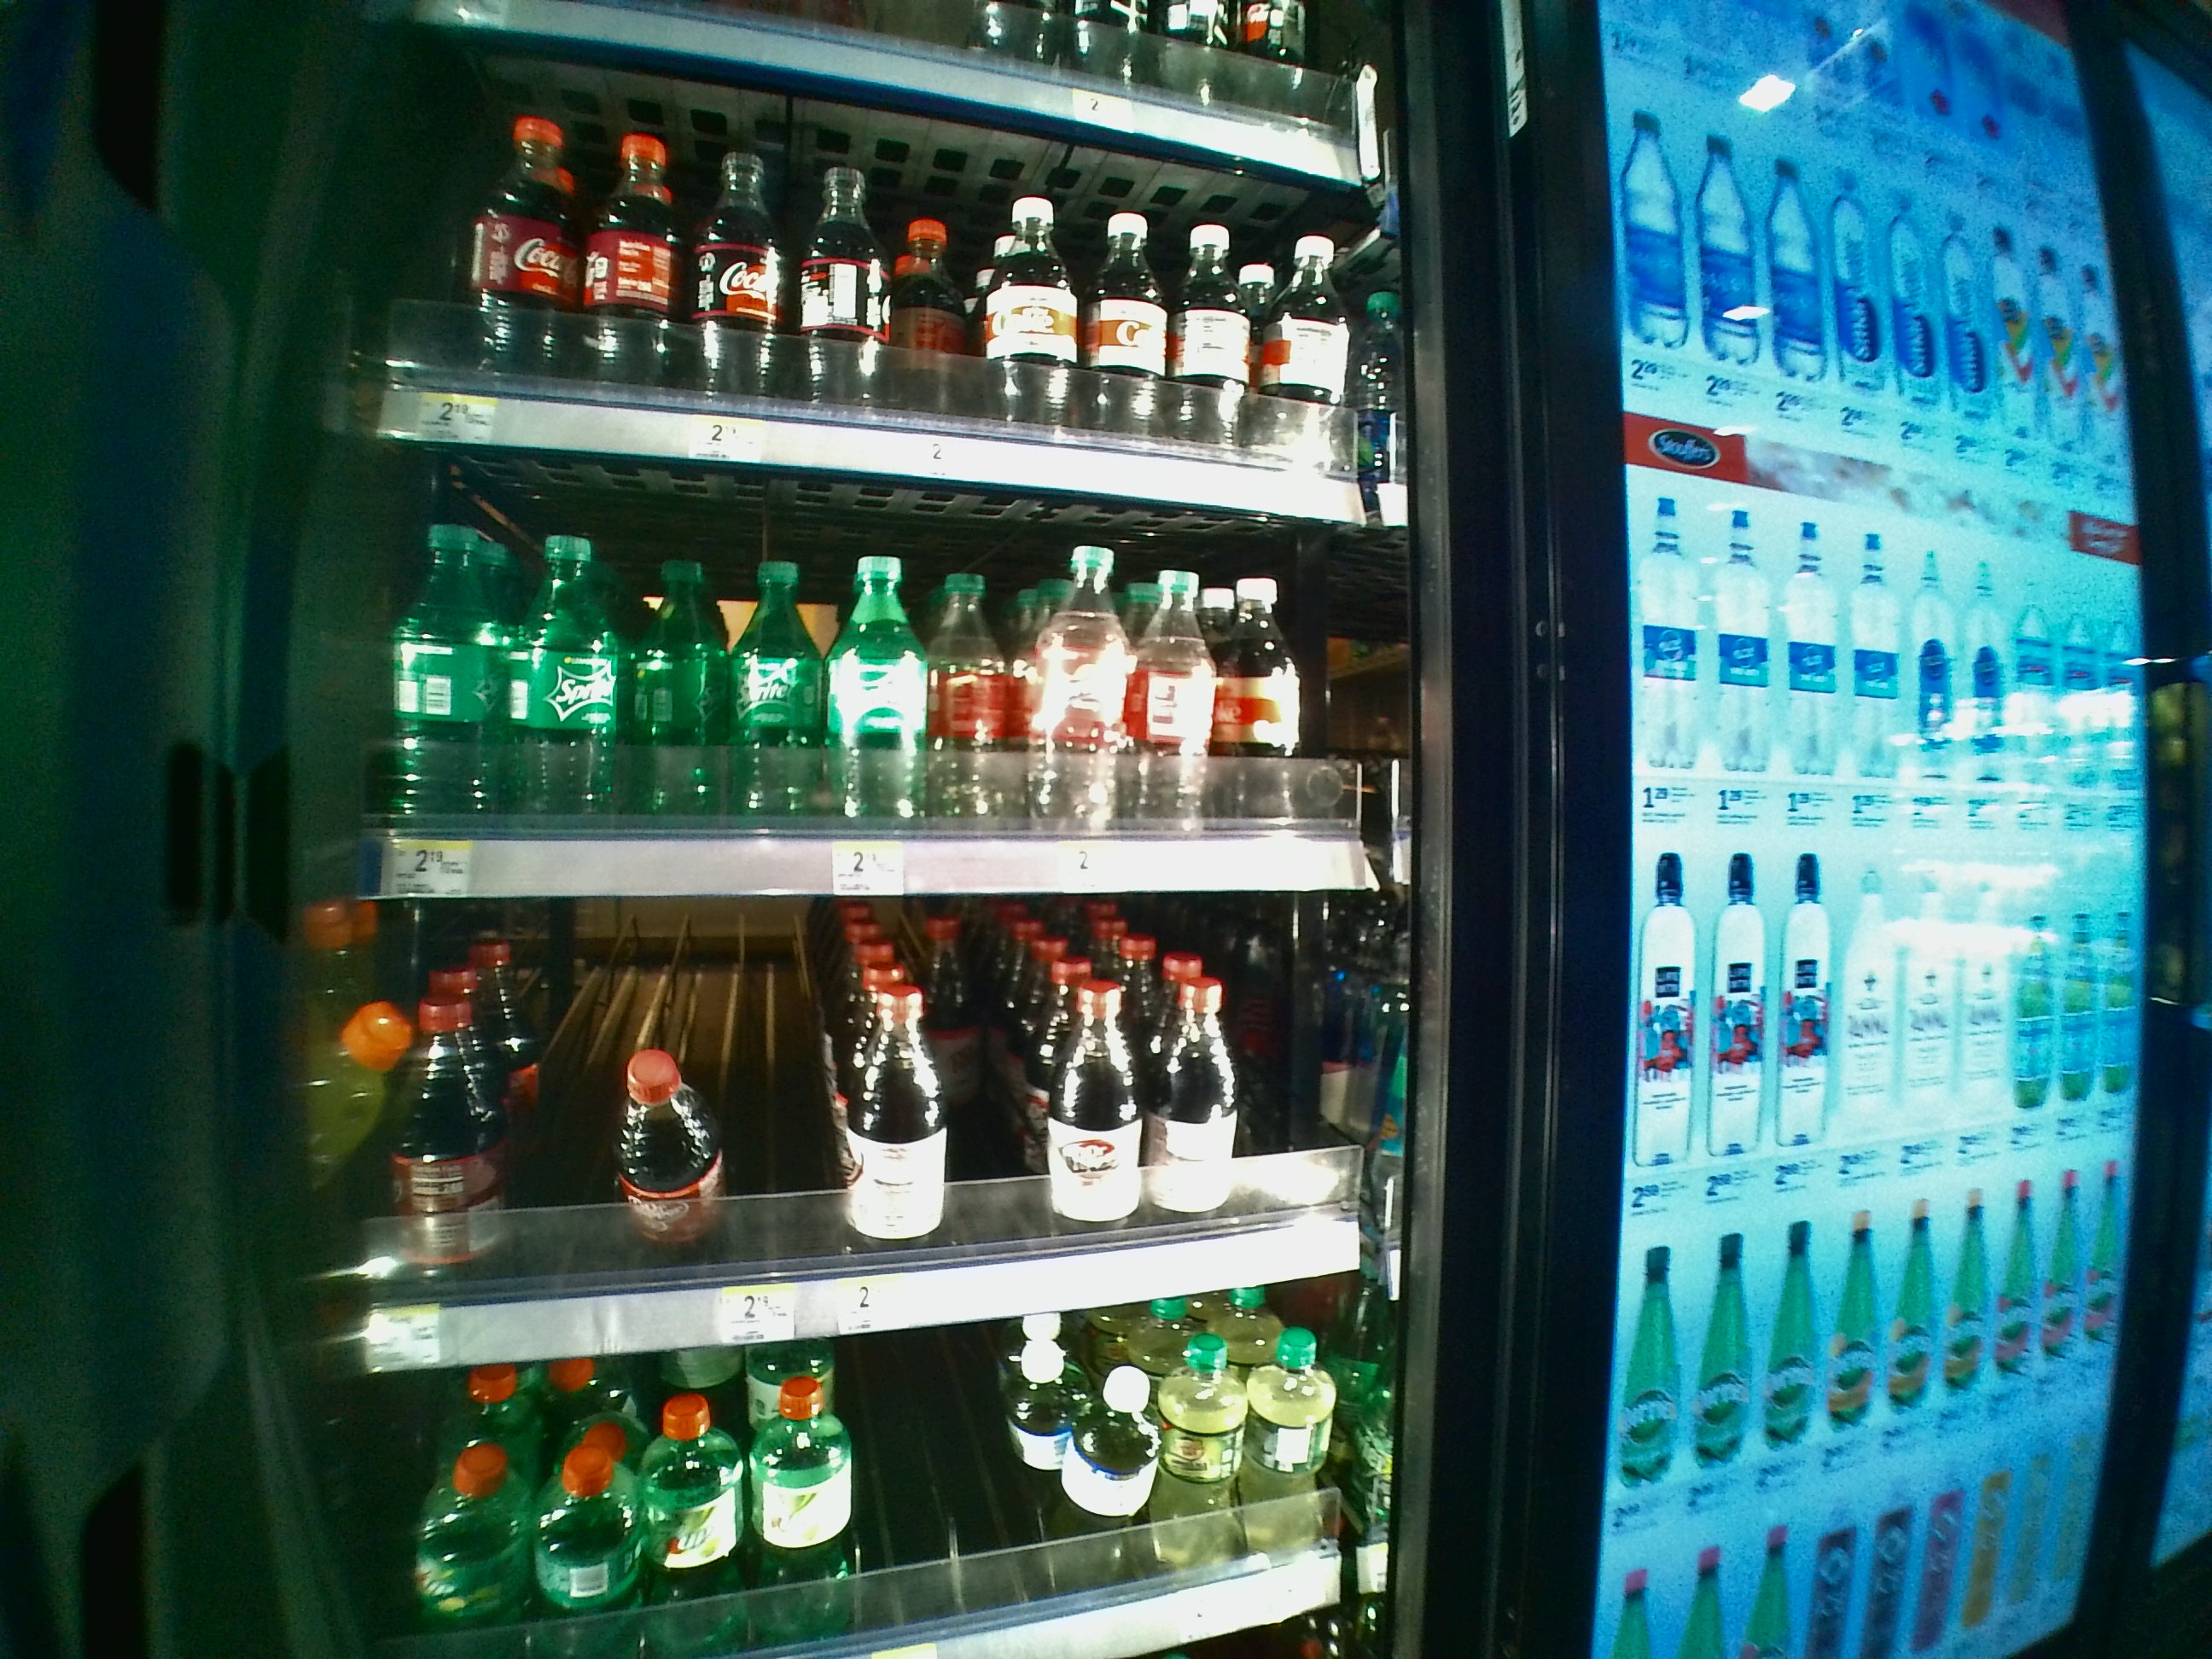shelf: (336, 443, 1420, 904)
